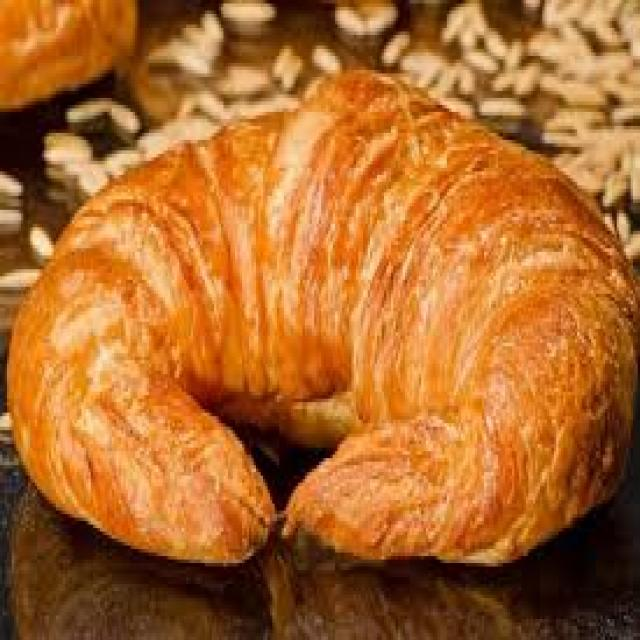organic waste: (2, 63, 638, 563), (528, 0, 638, 252), (335, 3, 531, 119), (152, 3, 338, 122), (39, 98, 232, 203), (0, 0, 135, 105), (0, 168, 51, 294)
